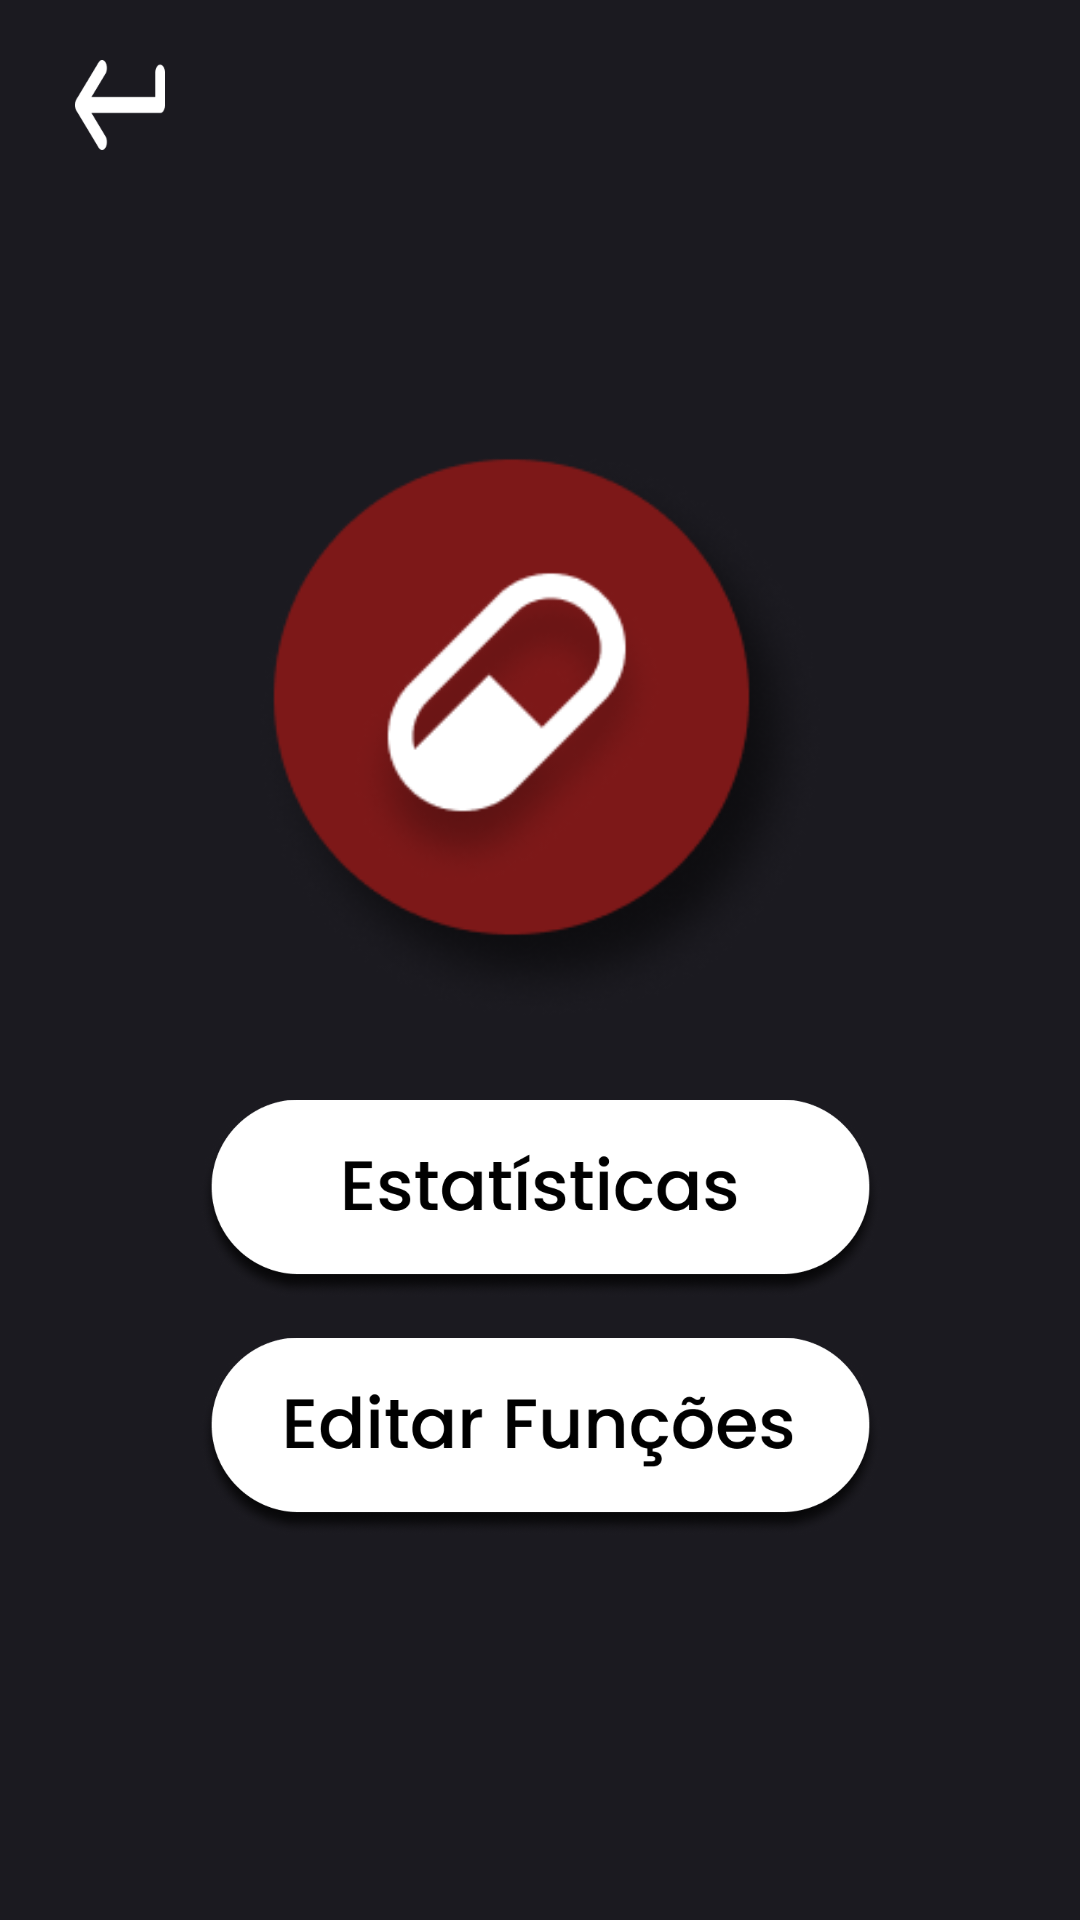

Named icons in this screenshot (1080px x 1920px) and their bounding boxes, [x1=x1, y1=y1, x2=x2, y2=y2]:
return: [x1=75, y1=60, x2=165, y2=150]
